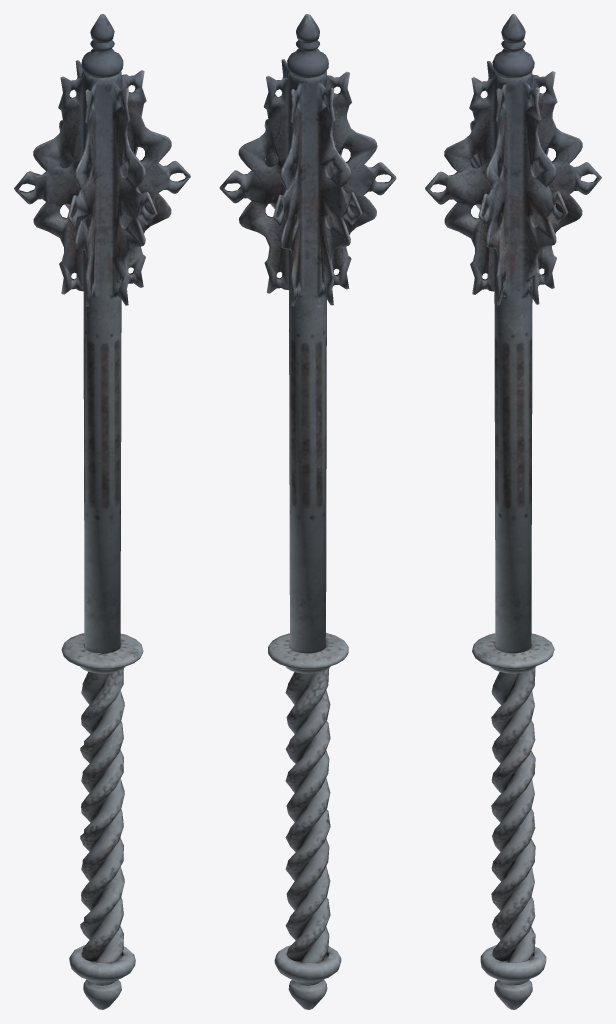
Rendered from ornate_medieval_mace.glb.
3 renders of one model, left to right at view 1: azimuth 30°, elevation 25°; view 2: azimuth 150°, elevation 25°; view 3: azimuth 270°, elevation 25°, orthographic.
Visible parts, largest first — view 1: ornate_medieval_mace; view 2: ornate_medieval_mace; view 3: ornate_medieval_mace.
Boxes of the visible parts, x1=… form: ornate_medieval_mace: x1=14, y1=14, x2=190, y2=1009; ornate_medieval_mace: x1=219, y1=14, x2=396, y2=1009; ornate_medieval_mace: x1=425, y1=14, x2=601, y2=1009.
Size of the model in its own units: 0.0949 by 0.6299 by 0.1015.
1 material, 1 textured.
